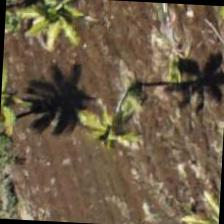Kelapa_Sawit: (74, 84, 168, 179), (27, 0, 122, 72)
